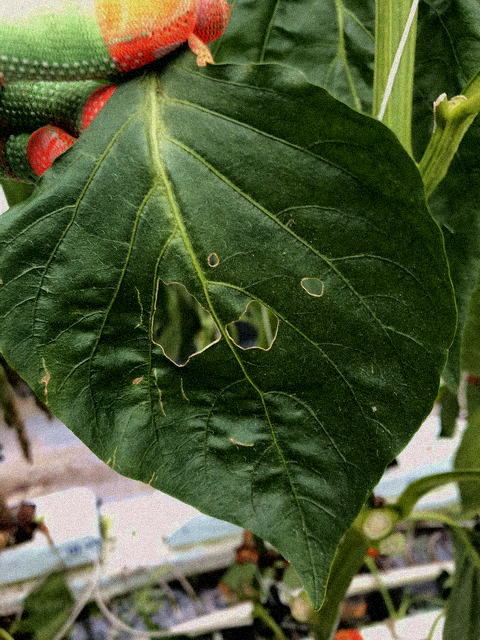snails_and_slugs: (150, 277, 222, 367), (226, 300, 280, 356), (300, 275, 326, 300), (207, 253, 221, 267)
